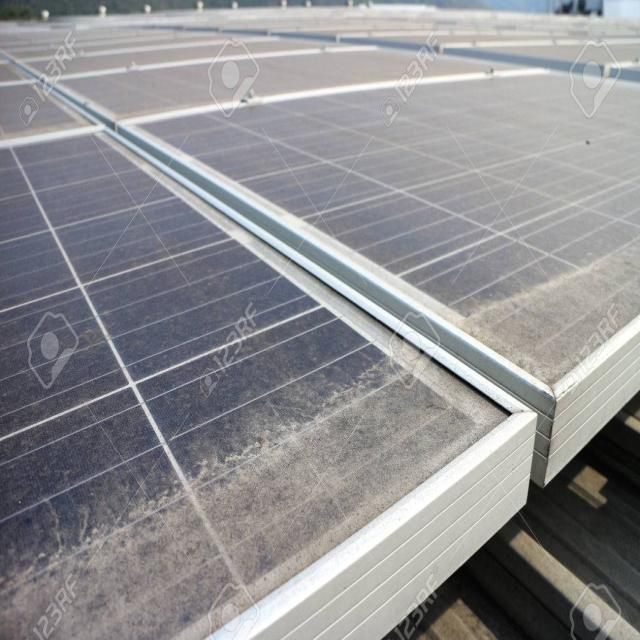Anomaly Solar Panel: (2, 60, 516, 640), (1, 27, 640, 396)
Surface Contaminant: (0, 331, 512, 639), (131, 70, 639, 313), (23, 34, 529, 121), (451, 228, 639, 384), (0, 57, 83, 142)
